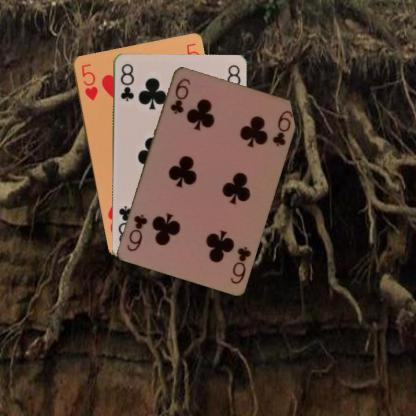5h: (78, 61, 98, 102)
6c: (167, 75, 192, 116), (228, 244, 252, 286)
8c: (117, 61, 135, 102)
